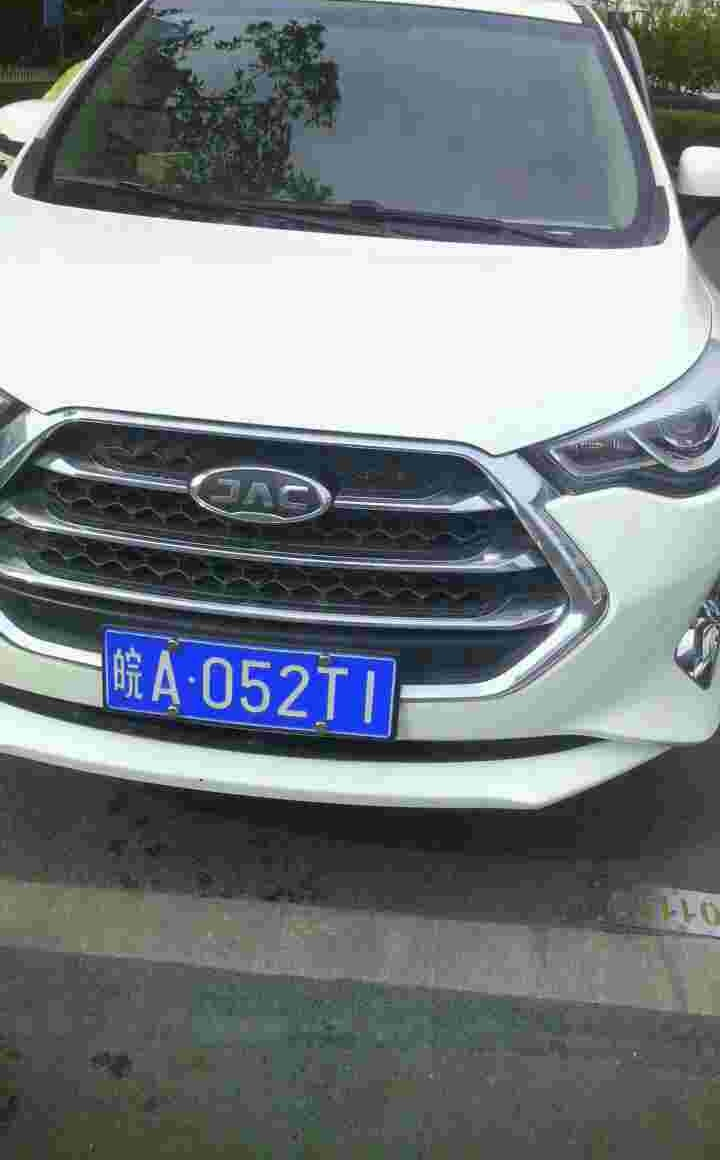car: (90, 630, 407, 740)
